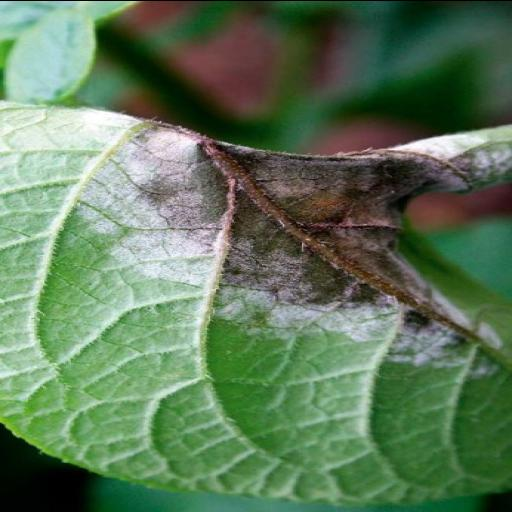disease_tomato: (2, 98, 512, 502)
